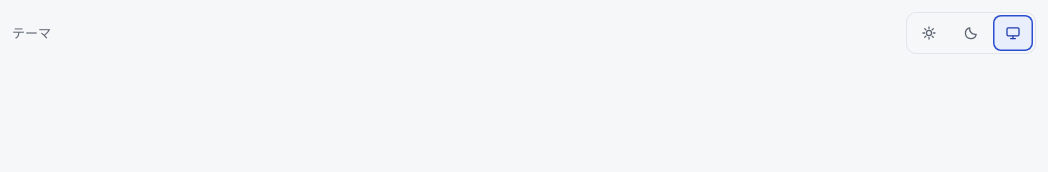
ThemeSwitch › ライトを選ぶと、適用して保存する
What coordinates should you click on to do the following:
click the button named "ライト"
I would click on:
 (929, 33)
Its box is [909,15,949,51].
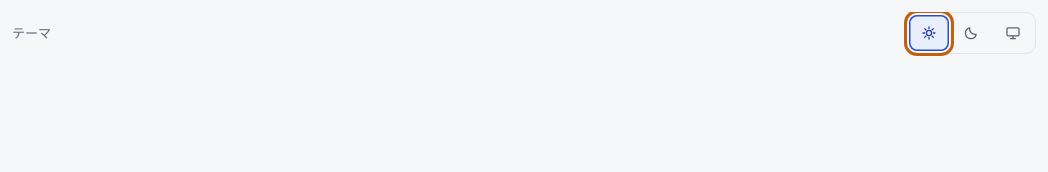
Expected: the button named "ライト" is pressed, [909,15,949,51]
